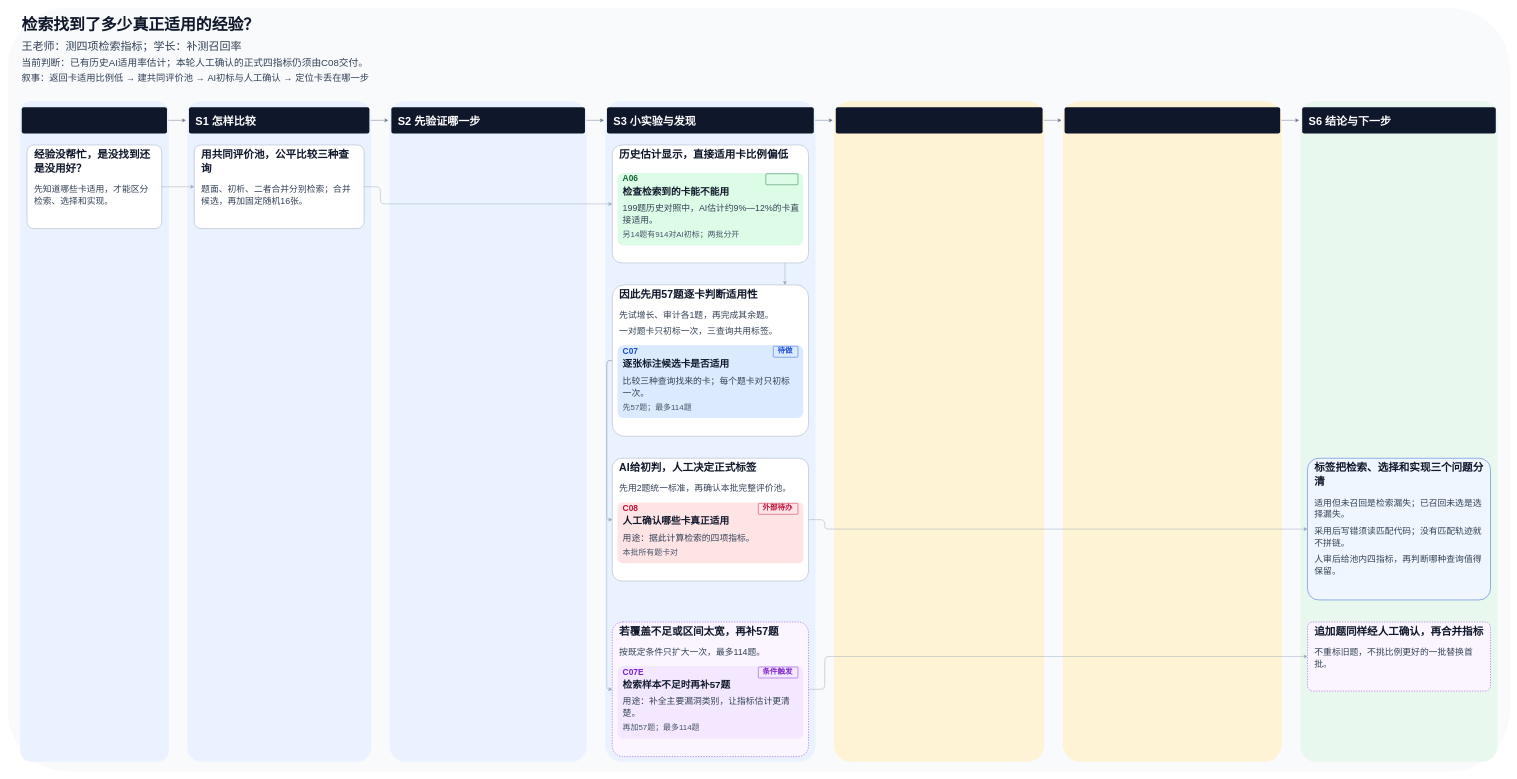
Image size: 1517x779. Some labels were removed from this diagram. The centre of each missing label's shape, as x and y in pixels:
"S0 为什么做" belongs at (94,120).
"S4 继续学习或建方法" belongs at (939,120).
"S5 完成主要比较" belongs at (1172,120).
"已完成" belongs at (781,179).
